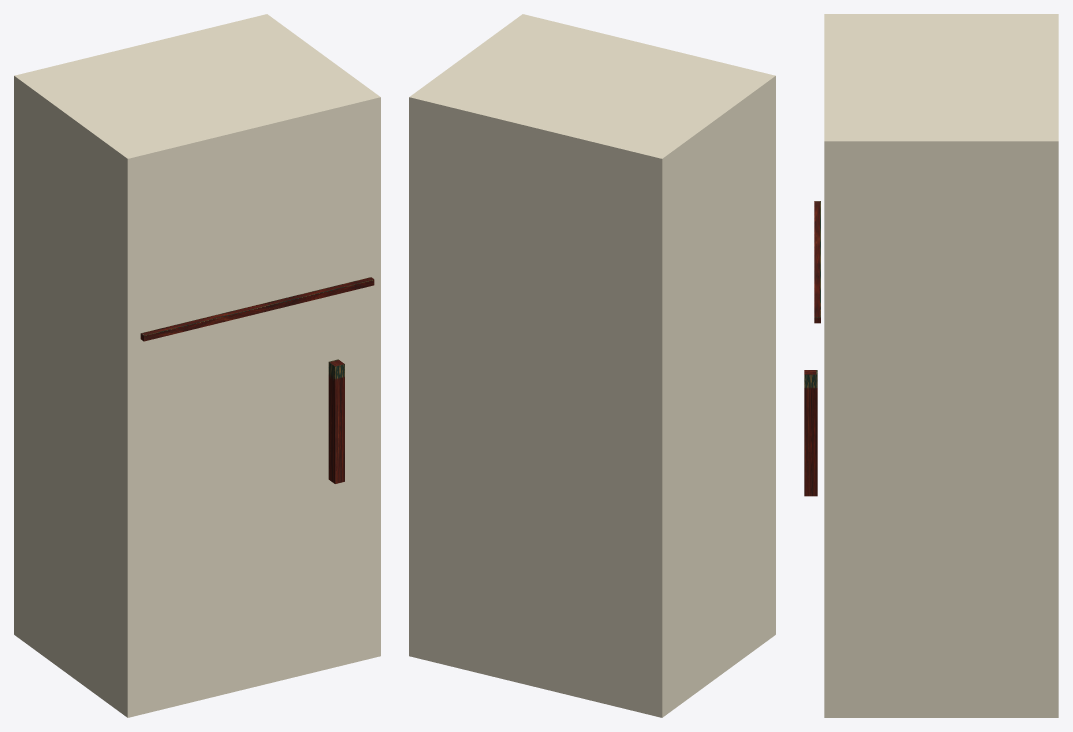
The model's file is refrigerator.gltf.
3 views of the same model, side by side, from view 1: azimuth 30°, elevation 25°; view 2: azimuth 150°, elevation 25°; view 3: azimuth 270°, elevation 25° (orthographic). The views are drawn at different scales.
Parts seen in each view (by area): view 1: kit:0:furniture:ivory:, kit:0:furniture:bronze:; view 2: kit:0:furniture:ivory:; view 3: kit:0:furniture:ivory:, kit:0:furniture:bronze:.
Boxes of the visible parts, x1,y1,x2,y2 form: kit:0:furniture:ivory:: (14,14,380,717); kit:0:furniture:bronze:: (140,277,374,483); kit:0:furniture:ivory:: (409,14,775,717); kit:0:furniture:ivory:: (824,14,1058,717); kit:0:furniture:bronze:: (804,201,820,496).
Size of the model in its own units: 0.9 by 1.9 by 0.76.
2 materials, 1 textured.
